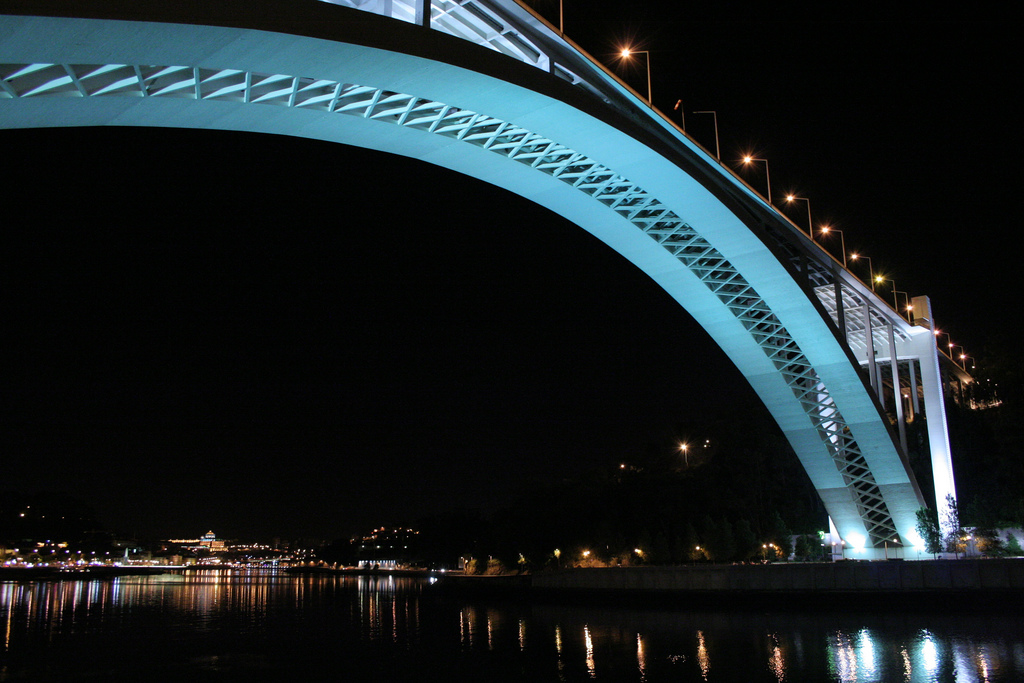arrabida: (0, 0, 1023, 560)
